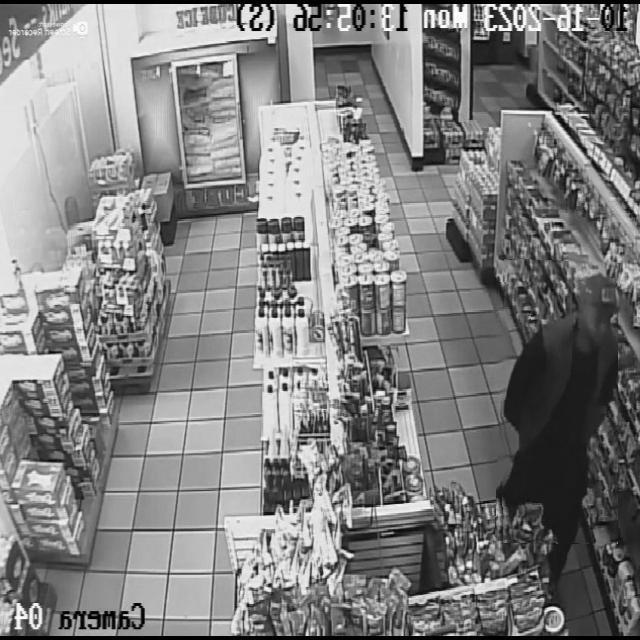Normal: (497, 260, 618, 544)
